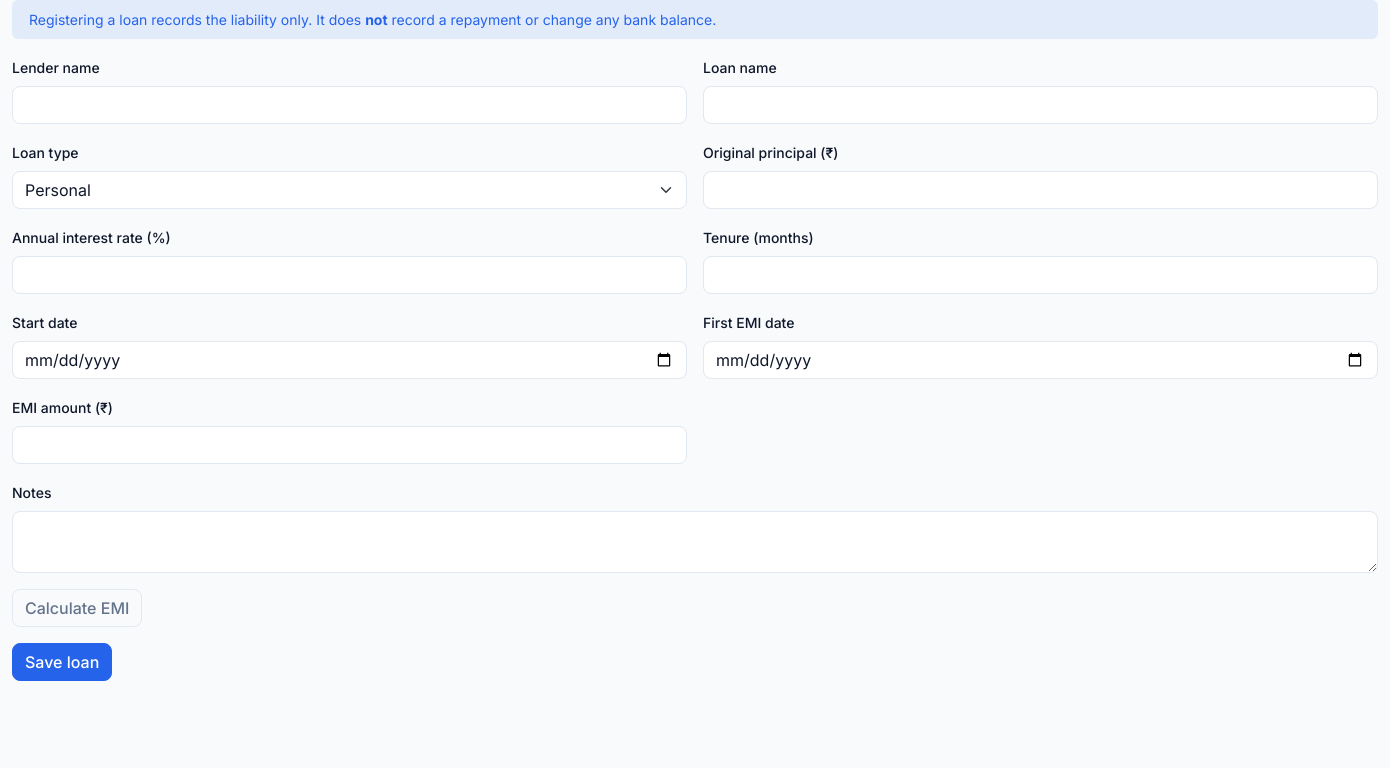
Scenario: AddLoanForm › calculates and displays an estimated EMI
The width and height of the screenshot is (1390, 768).
Type "500000" into the number field labelled "Original principal (₹)" at x=1040, y=190, box x1=703 y1=171 x2=1378 y2=209
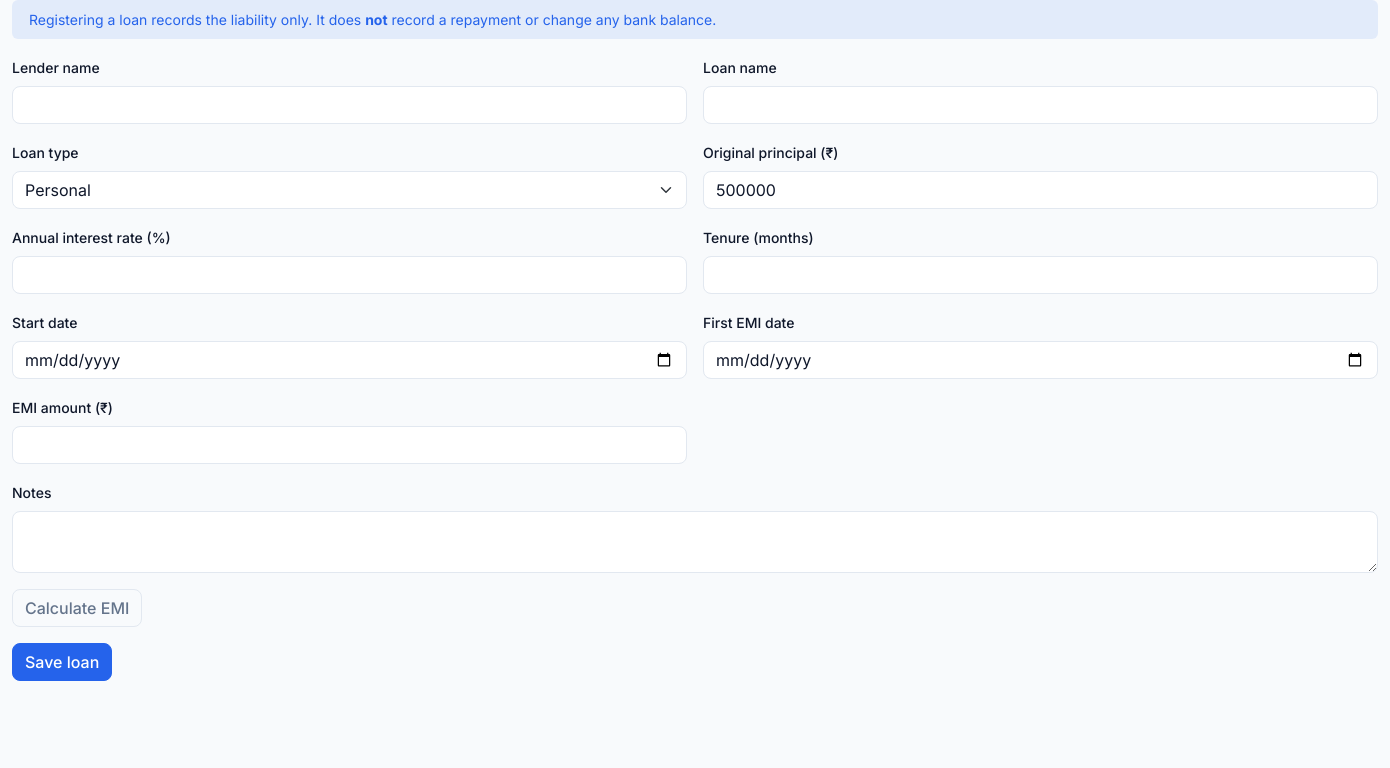
Type "9.5" into the number field labelled "Annual interest rate (%)" at x=350, y=275, box x1=12 y1=256 x2=687 y2=294
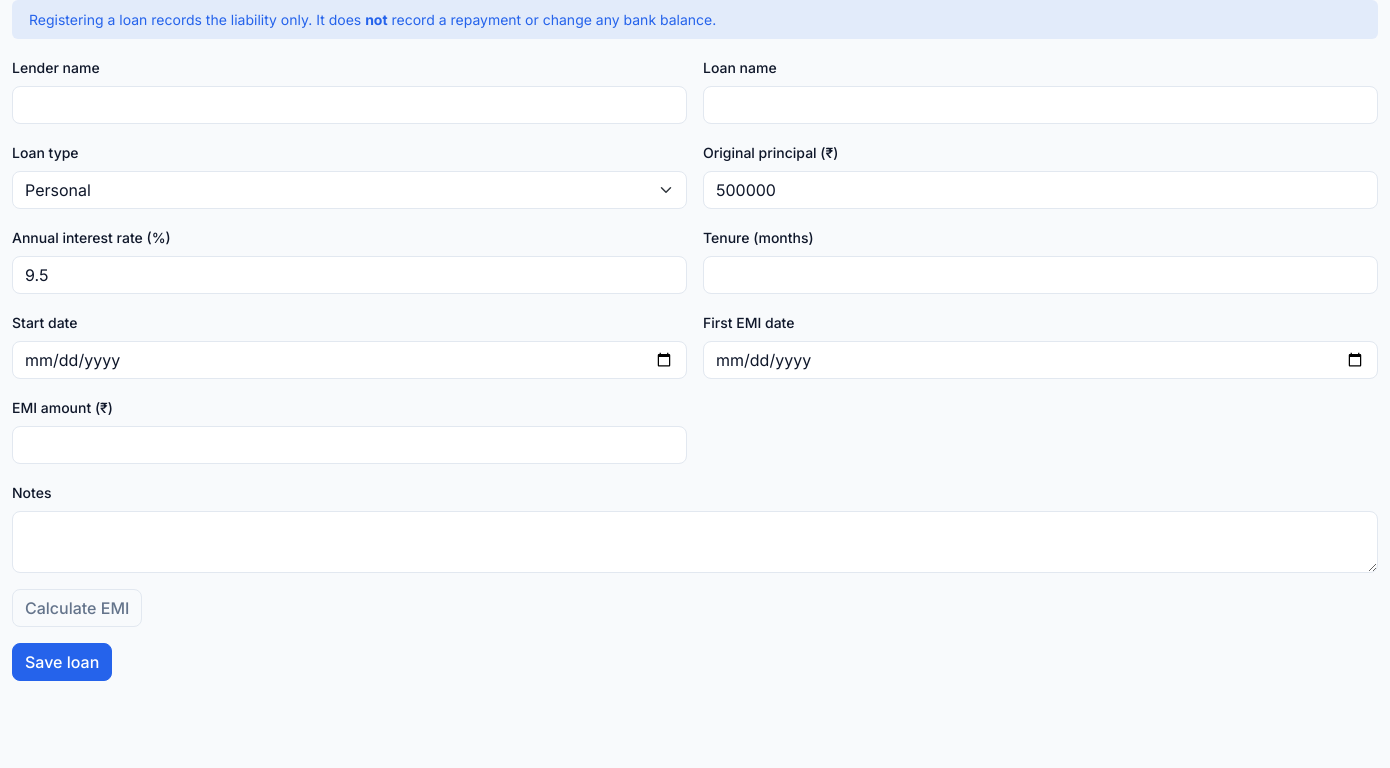
Type "60" into the number field labelled "Tenure (months)" at x=1040, y=275, box x1=703 y1=256 x2=1378 y2=294
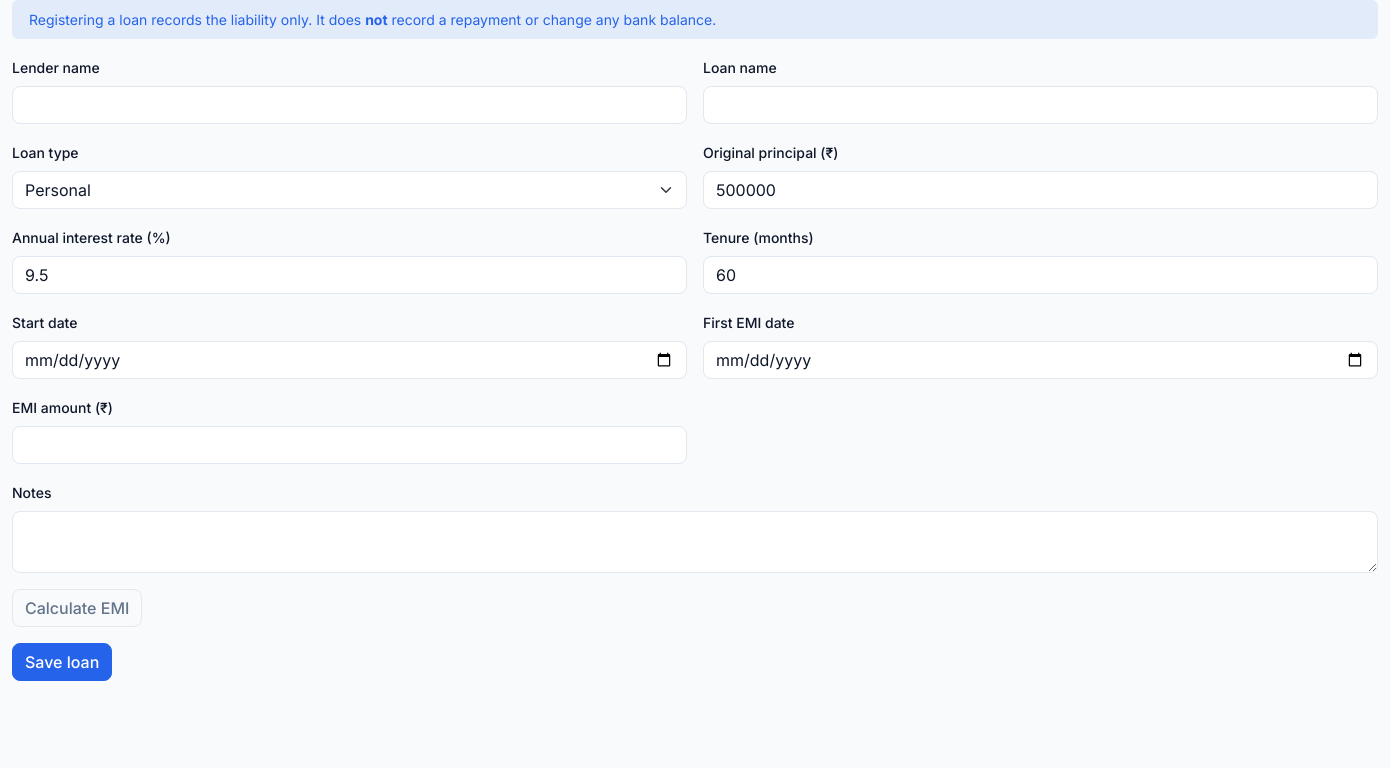
Click the button "Calculate EMI" at x=77, y=608, box x1=12 y1=589 x2=142 y2=627
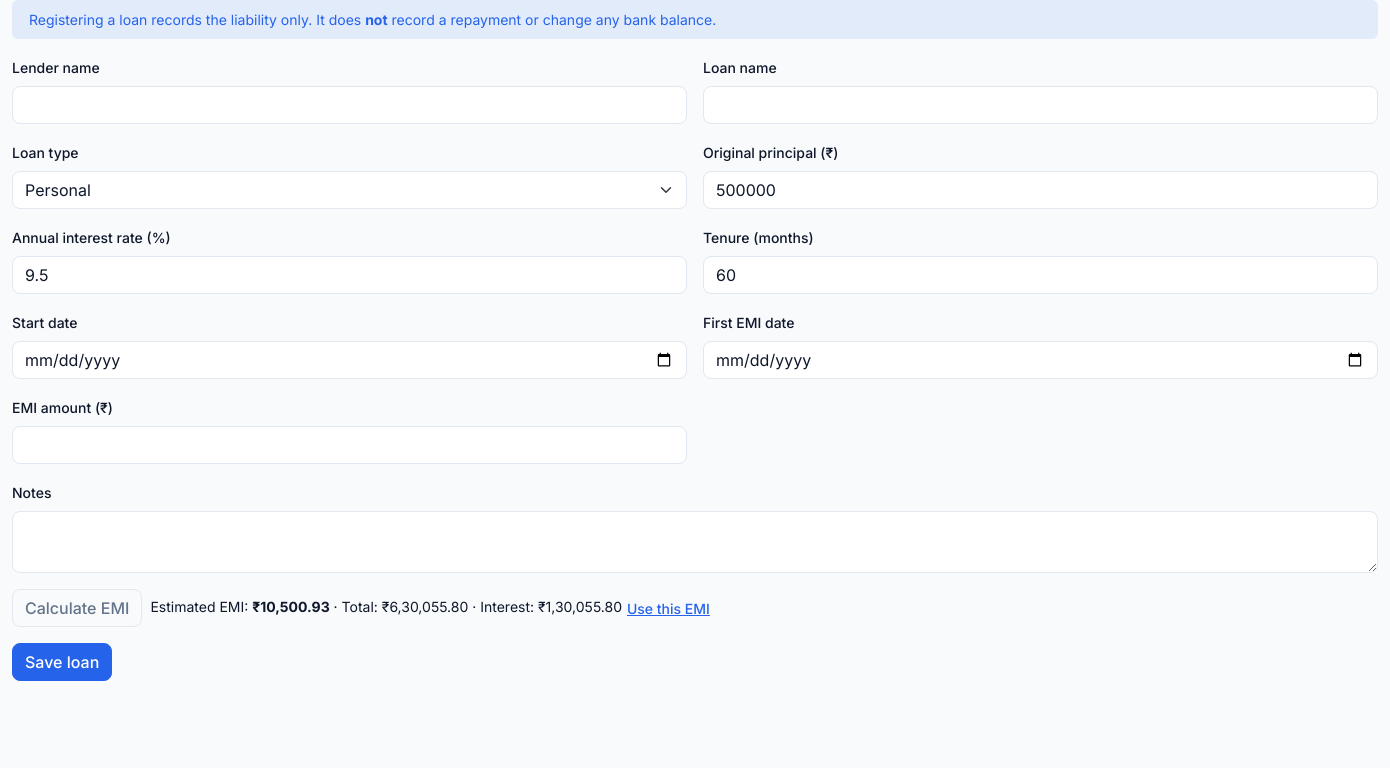
Result: the text "Estimated EMI" is shown at x1=150 y1=598 x2=252 y2=615
